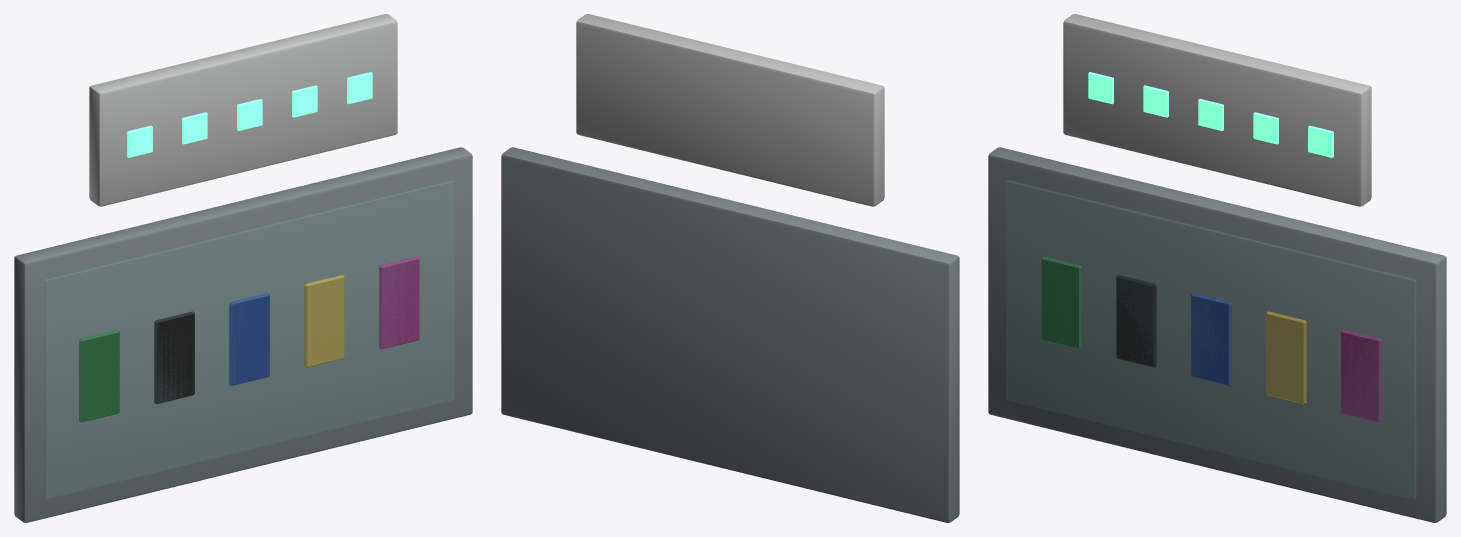
The model's file is sc-gas-zone-valve.glb.
The picture shows the model from 3 angles, left to right: view 1: azimuth 30°, elevation 25°; view 2: azimuth 150°, elevation 25°; view 3: azimuth 330°, elevation 25°; orthographic projection.
Parts seen in each view (by area): view 1: sc-gas-zone-valve; view 2: sc-gas-zone-valve; view 3: sc-gas-zone-valve.
Part boxes in pixels (<box>): sc-gas-zone-valve: <box>14,14,472,522</box>; sc-gas-zone-valve: <box>501,14,959,522</box>; sc-gas-zone-valve: <box>988,14,1446,522</box>.
Size of the model in its own units: 0.9 by 0.79 by 0.045.
